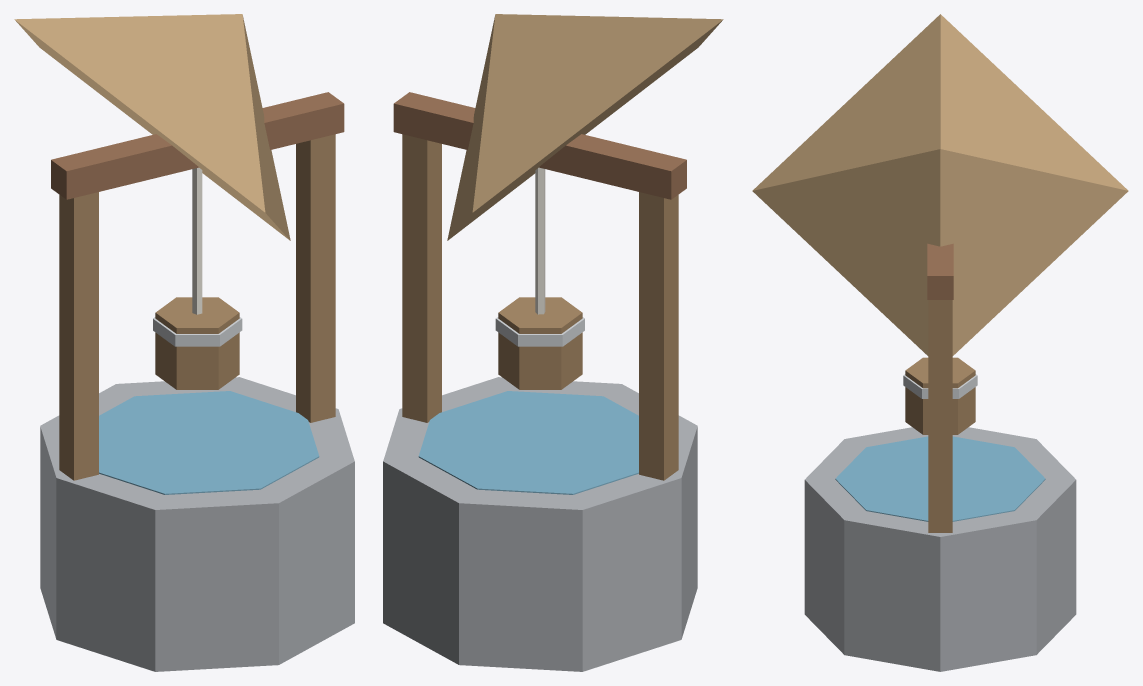
File: well.glb
3 renders of one model, left to right at view 1: azimuth 30°, elevation 25°; view 2: azimuth 150°, elevation 25°; view 3: azimuth 270°, elevation 25°, orthographic. The views are drawn at different scales.
Parts seen in each view (by area): view 1: stone_ring, roof.001, water, post, post.001, beam.004, bucket, rope, bucket_hoop; view 2: stone_ring, roof.001, water, post, post.001, beam.004, bucket, rope, bucket_hoop; view 3: roof.001, stone_ring, water, post.001, bucket, beam.004, bucket_hoop.
Boxes of the visible parts, x1,y1,x2,y2 form: stone_ring: (40, 377, 354, 671); roof.001: (14, 14, 290, 240); water: (99, 391, 319, 494); post: (59, 192, 98, 480); post.001: (296, 134, 335, 422); beam.004: (51, 92, 344, 199); bucket: (155, 297, 239, 389); rope: (192, 167, 202, 314); bucket_hoop: (153, 317, 242, 346); stone_ring: (383, 377, 697, 671); roof.001: (447, 14, 723, 240); water: (418, 391, 638, 494); post: (639, 192, 678, 480); post.001: (402, 134, 441, 422); beam.004: (393, 92, 686, 199); bucket: (498, 297, 582, 389); rope: (535, 167, 545, 314); bucket_hoop: (495, 317, 584, 346); roof.001: (752, 14, 1128, 355); stone_ring: (804, 427, 1076, 671); water: (835, 436, 1045, 521); post.001: (928, 300, 952, 532); bucket: (905, 357, 975, 434); beam.004: (927, 243, 953, 299); bucket_hoop: (903, 374, 977, 398).
Bounding box in the file's own units: 1.43 × 2.65 × 1.72.
